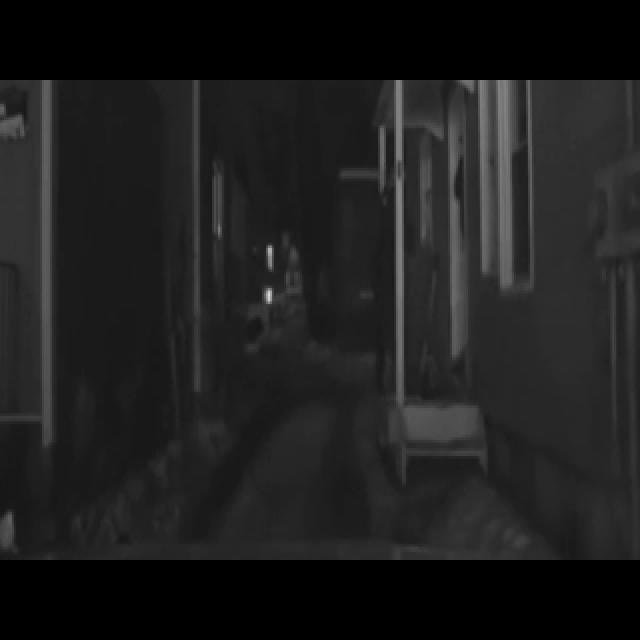shooting: (314, 126, 488, 480)
